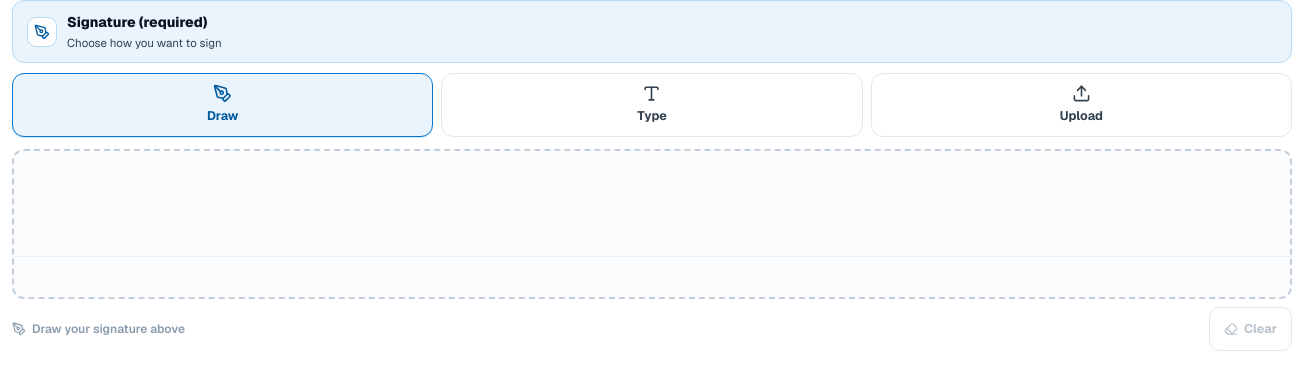
Test: typed signatures › trims, so what is stored is what gets drawn
Click the button "Type": click(652, 105) [441, 73, 863, 137]
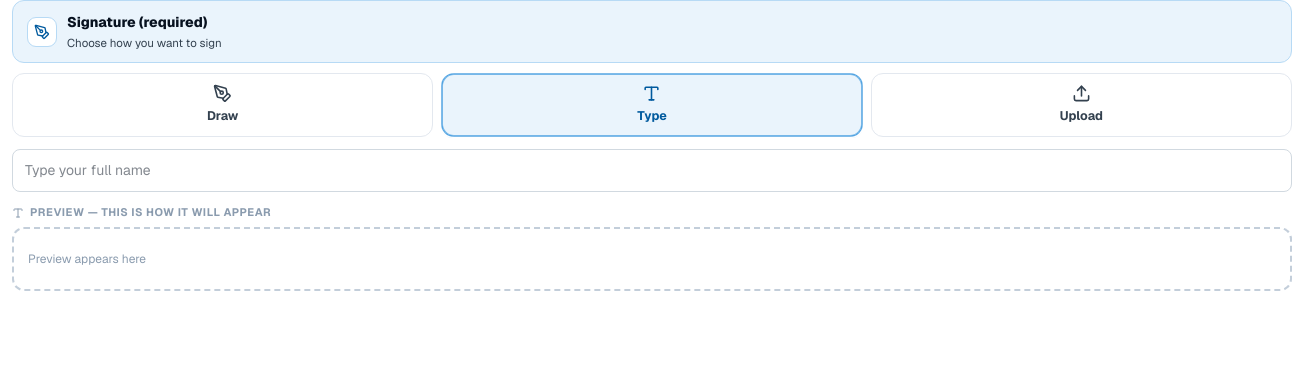
In the field named "Type your signature": (652, 171) [12, 149, 1292, 192], type "  Maria  "
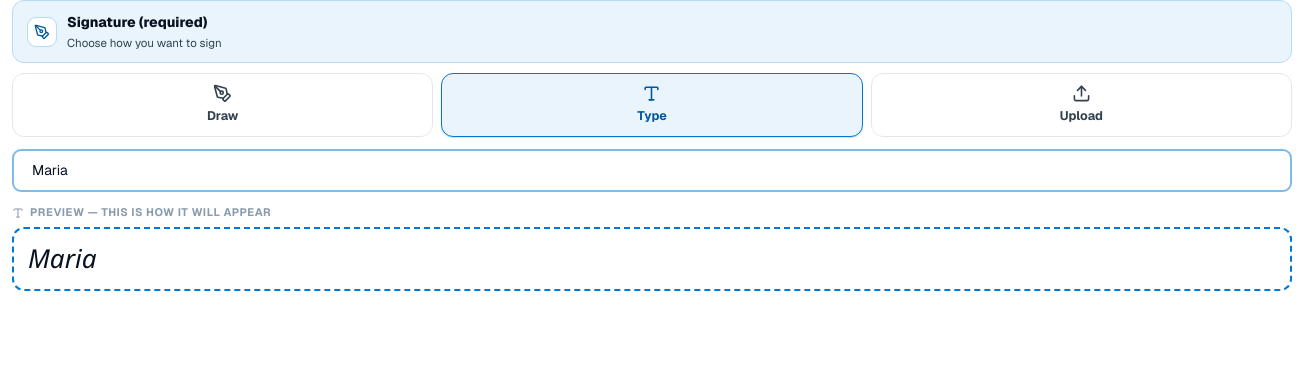
Expected: the text "Maria" is shown, [12, 227, 1292, 291]
